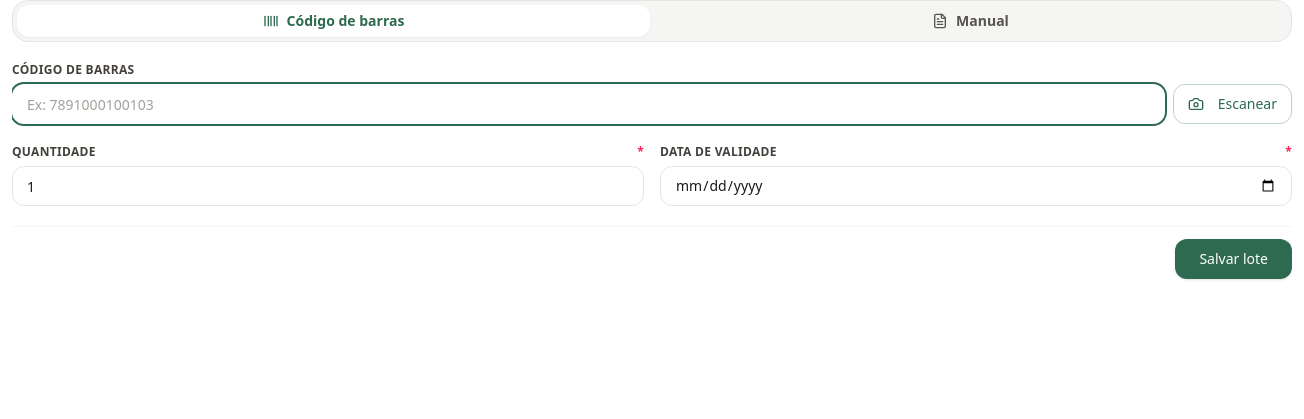
Scenario: BatchForm component › alterna entre abas de Código de barras e Manual
This screenshot has width=1304, height=419.
Expected: the field labelled "Código de barras" is shown, [12,84,1165,124]
# Clica na aba "Manual"
Click the tab "Manual": click(970, 21) [654,5,1287,37]
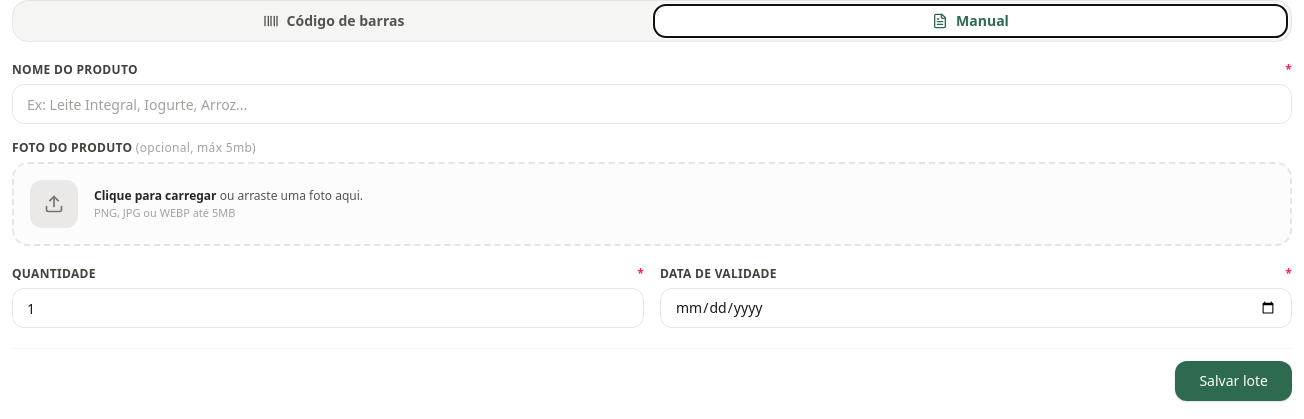
Result: the field labelled "Nome do produto *" is shown at [12,84,1292,124]
